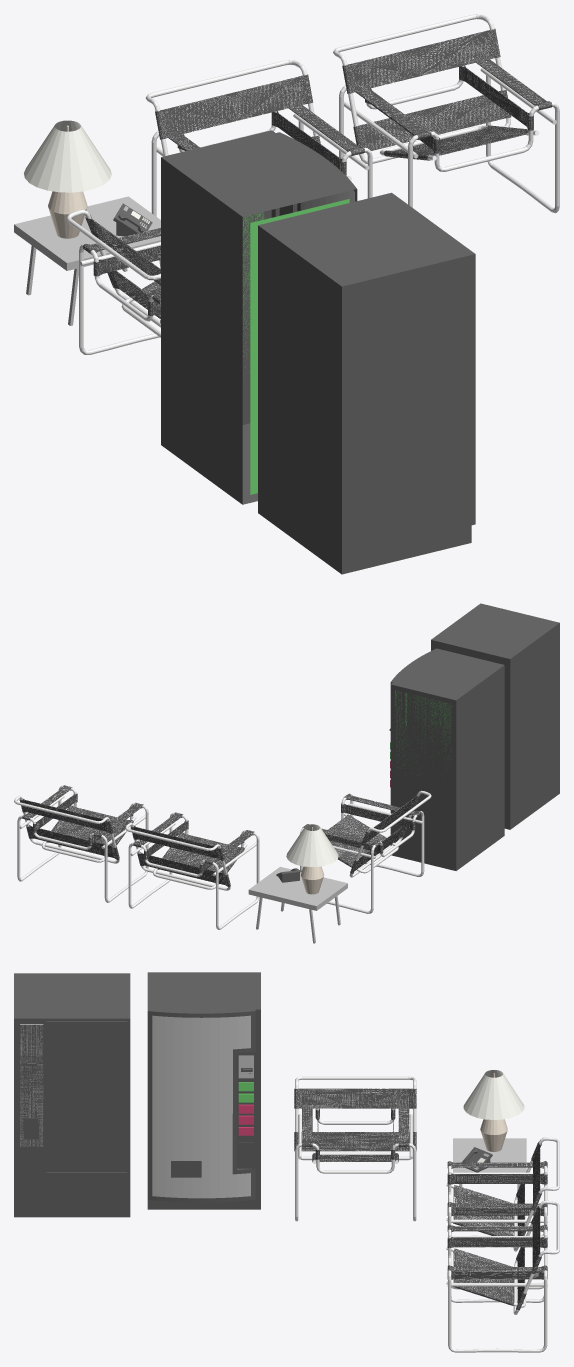
The model's file is machines.dae.
3 renders of one model, top to bottom at view 1: azimuth 30°, elevation 25°; view 2: azimuth 150°, elevation 25°; view 3: azimuth 270°, elevation 25°, orthographic. The views are drawn at different scales.
Visible parts, largest first — view 1: instance_0, instance_74, instance_81_034, instance_81_019, instance_85_001, instance_81_020, instance_81_029, instance_74_016, instance_81_021, instance_81_014, instance_85, instance_107 (+13 smaller); view 2: instance_74, instance_0, instance_85_001, instance_81_044, instance_81_029, instance_81_036, instance_81_021, instance_81_006, instance_81_014, instance_81_034, instance_81_019, instance_81_020 (+8 smaller); view 3: instance_74_002, instance_0, instance_0_005, instance_74, instance_74_001, instance_0_002, instance_81_004, instance_85_001, instance_81_005, instance_0_016, instance_81_021, instance_81_029 (+17 smaller).
Part boxes in pixels (x1,y1,x2,y2): instance_0: [258, 192, 475, 574]; instance_74: [161, 130, 357, 504]; instance_81_034: [155, 74, 313, 139]; instance_81_019: [342, 29, 500, 93]; instance_85_001: [24, 120, 111, 192]; instance_81_020: [353, 90, 511, 150]; instance_81_029: [339, 59, 559, 213]; instance_74_016: [250, 199, 349, 494]; instance_81_021: [384, 125, 528, 160]; instance_81_014: [79, 244, 160, 354]; instance_85: [48, 191, 87, 238]; instance_107: [40, 231, 110, 270]; instance_74: [390, 648, 504, 870]; instance_0: [431, 603, 559, 829]; instance_85_001: [286, 824, 338, 866]; instance_81_044: [128, 813, 259, 929]; instance_81_029: [17, 785, 148, 902]; instance_81_036: [158, 832, 244, 883]; instance_81_021: [47, 805, 133, 856]; instance_81_006: [328, 814, 386, 867]; instance_81_014: [300, 793, 424, 913]; instance_81_034: [130, 825, 224, 860]; instance_81_019: [19, 798, 113, 833]; instance_81_020: [26, 825, 119, 859]; instance_74_002: [152, 1015, 250, 1198]; instance_0: [14, 973, 130, 1217]; instance_0_005: [46, 1021, 127, 1149]; instance_74: [147, 972, 260, 1202]; instance_74_001: [147, 1009, 260, 1209]; instance_0_002: [20, 1024, 43, 1146]; instance_81_004: [294, 1088, 416, 1108]; instance_85_001: [463, 1070, 524, 1119]; instance_81_005: [294, 1132, 416, 1151]; instance_0_016: [46, 1172, 127, 1191]; instance_81_021: [453, 1248, 514, 1305]; instance_81_029: [448, 1229, 547, 1352].
Size of the model in its own units: 3.56 by 4.53 by 1.83.
